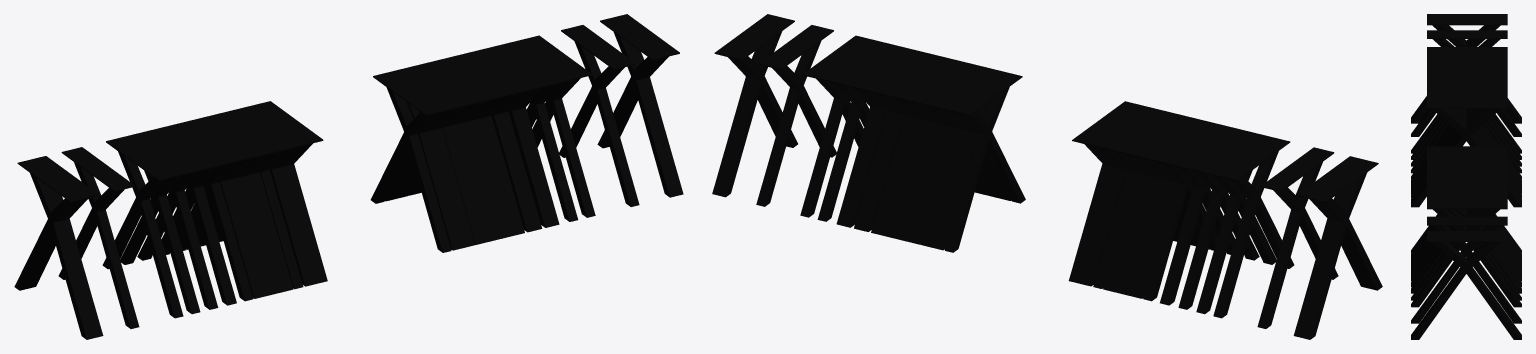
File: X Modern.glb
3 renders of one model, left to right at view 1: azimuth 30°, elevation 25°; view 2: azimuth 150°, elevation 25°; view 3: azimuth 270°, elevation 25°, orthographic. The views are drawn at different scales.
Visible parts, largest first — view 1: Rectangle_X_Modern_LEG, Verbaan_X_Modern_LEG, Oval_X_Modern_LEG, Organic_X_Modern_LEG, Halve_X_Modern_LEG; view 2: Rectangle_X_Modern_LEG, Verbaan_X_Modern_LEG, Oval_X_Modern_LEG, Organic_X_Modern_LEG, Halve_X_Modern_LEG; view 3: Rectangle_X_Modern_LEG, Verbaan_X_Modern_LEG, Oval_X_Modern_LEG, Organic_X_Modern_LEG, Halve_X_Modern_LEG.
Boxes of the visible parts, x1,y1,x2,y2 form: Rectangle_X_Modern_LEG: (14,14,683,339); Verbaan_X_Modern_LEG: (28,19,674,337); Oval_X_Modern_LEG: (164,67,537,304); Organic_X_Modern_LEG: (199,66,553,295); Halve_X_Modern_LEG: (18,55,681,339); Rectangle_X_Modern_LEG: (712,14,1381,339); Verbaan_X_Modern_LEG: (719,19,1369,337); Oval_X_Modern_LEG: (858,67,1227,303); Organic_X_Modern_LEG: (842,67,1192,292); Halve_X_Modern_LEG: (713,51,1382,339); Rectangle_X_Modern_LEG: (1411,14,1521,339); Verbaan_X_Modern_LEG: (1411,17,1521,336); Oval_X_Modern_LEG: (1411,93,1521,284); Organic_X_Modern_LEG: (1411,93,1521,290); Halve_X_Modern_LEG: (1412,26,1518,339).
Size of the model in its own units: 3.48 by 0.7232 by 0.7164.
6 materials, 6 textured.
